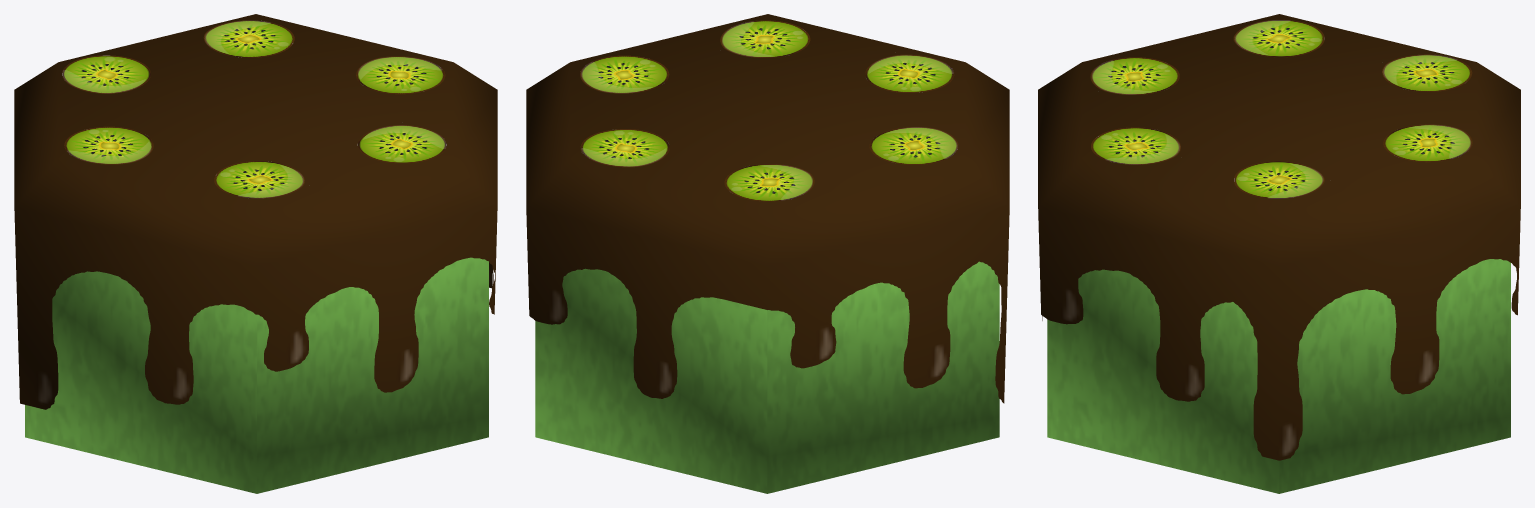
The model's file is Cake_A_03.FBX.
3 renders of one model, left to right at view 1: azimuth 30°, elevation 25°; view 2: azimuth 150°, elevation 25°; view 3: azimuth 270°, elevation 25°, orthographic.
Parts seen in each view (by area): view 1: Cake; view 2: Cake; view 3: Cake.
Boxes of the visible parts, box(x1,y1,x2,y2) form: Cake: box(14, 14, 497, 493); Cake: box(526, 14, 1009, 493); Cake: box(1038, 14, 1520, 493).
Bounding box in the file's own units: 106 × 56.96 × 92.14.
